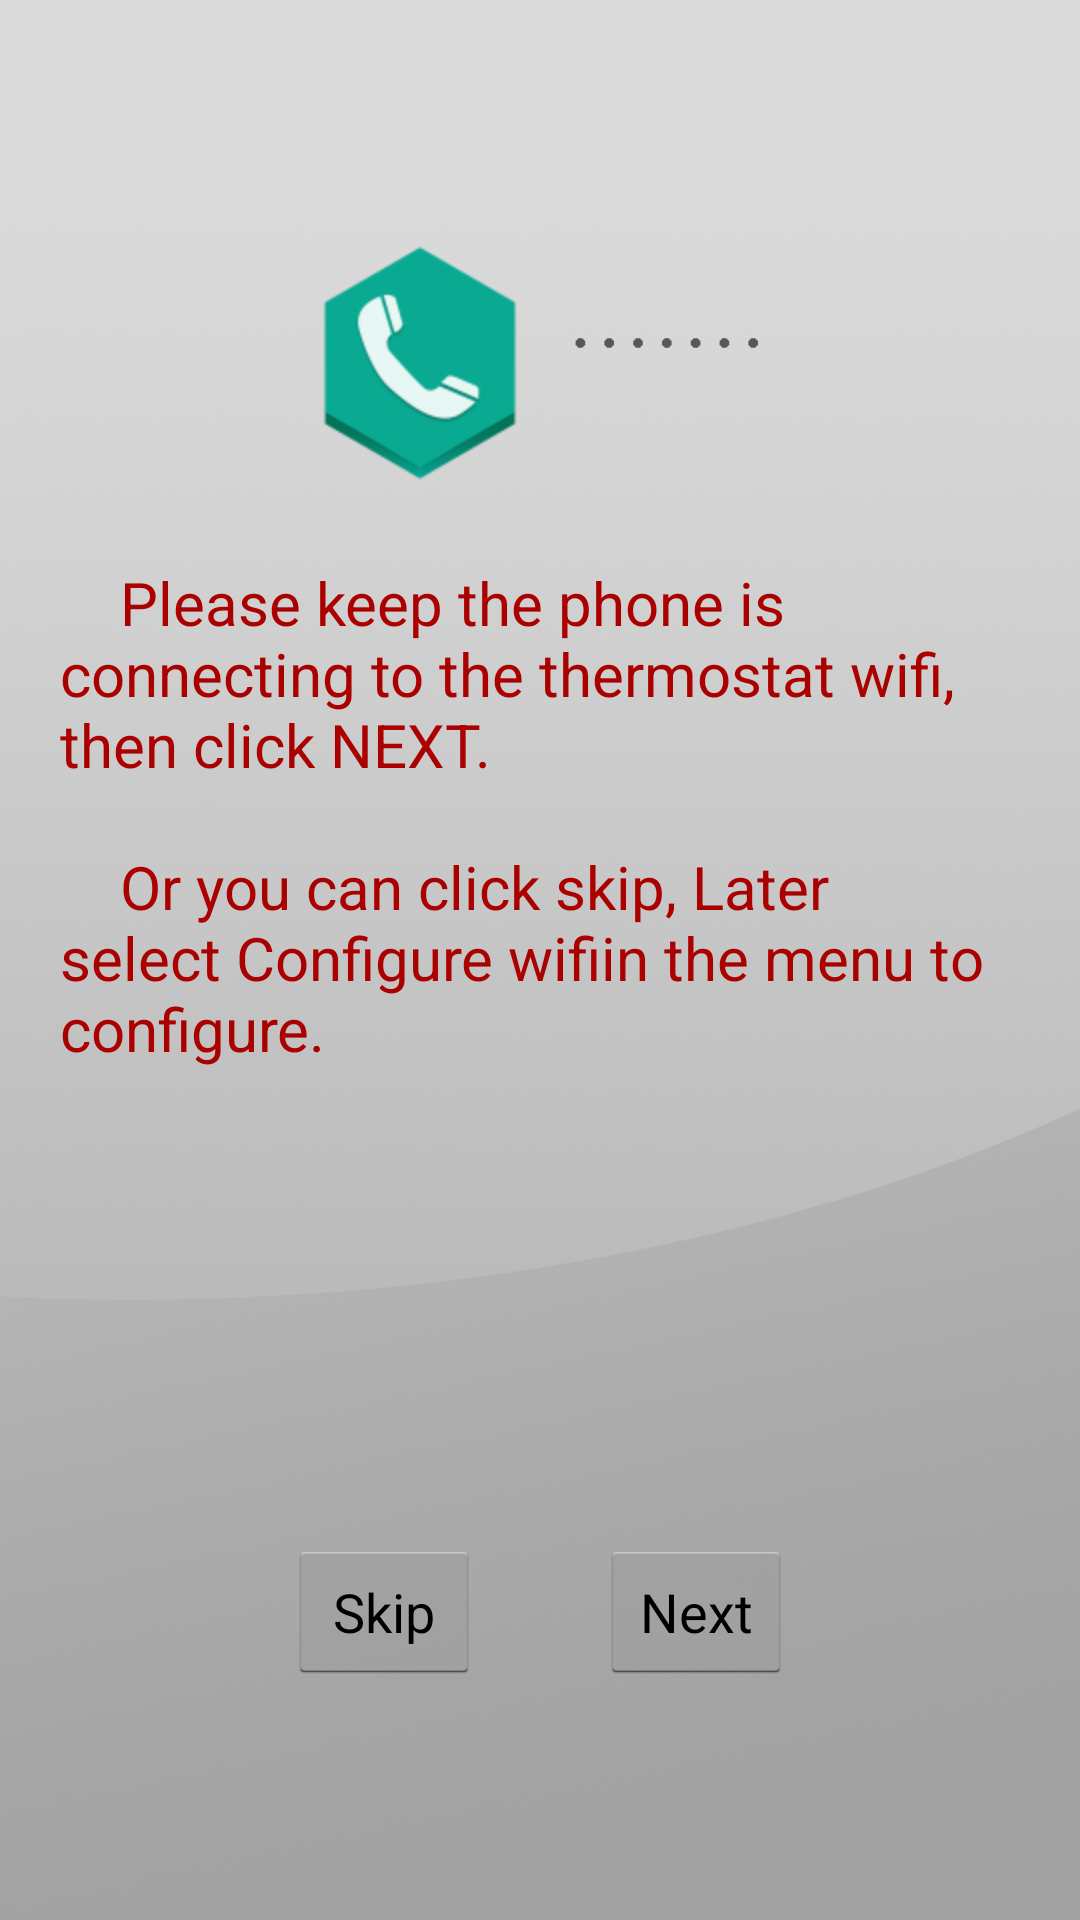

Where to tap for icons on this 1080 × 1920 app screen, as [x,y]:
phoneicon: [420,363]
